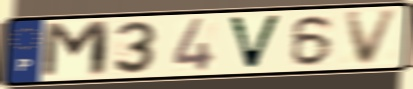3: (112, 19, 159, 76)
4: (170, 16, 217, 74)
6: (289, 13, 336, 67)
M: (39, 19, 113, 81)
V: (343, 7, 402, 68), (225, 14, 285, 72)
